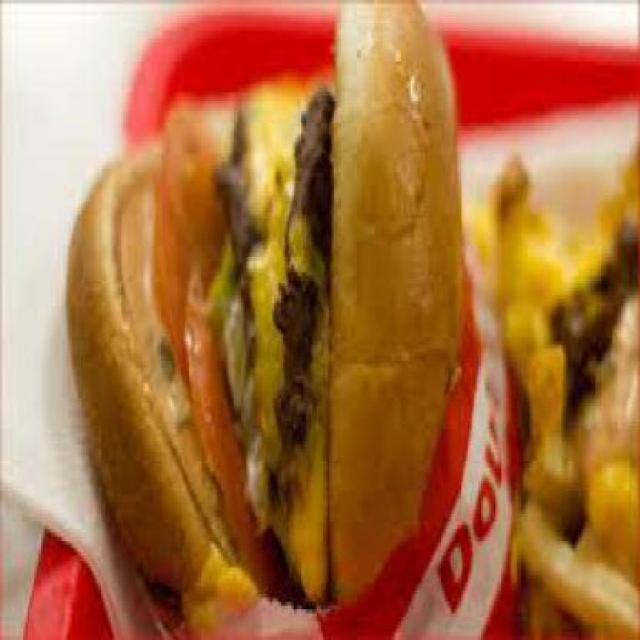french fries: (478, 130, 638, 636)
